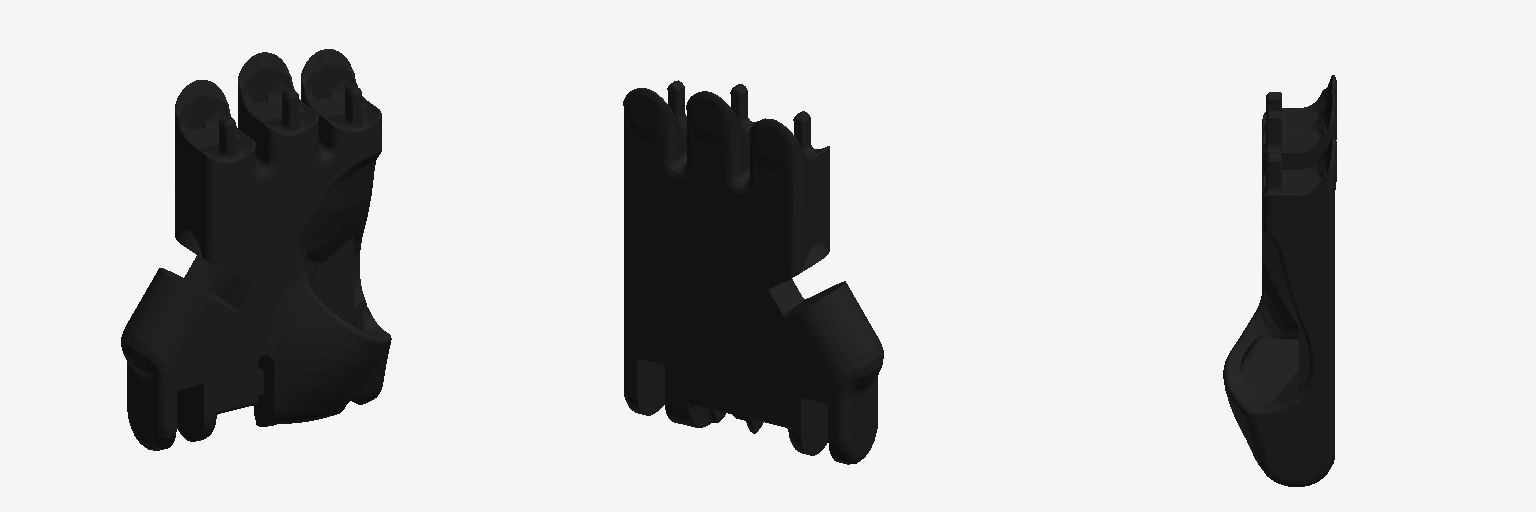
File: palm.obj
The picture shows the model from 3 angles: view 1: azimuth 30°, elevation 25°; view 2: azimuth 150°, elevation 25°; view 3: azimuth 270°, elevation 25°; orthographic projection.
Visible parts, largest first — view 1: palm_palm_001; view 2: palm_palm_001; view 3: palm_palm_001.
Boxes of the visible parts, <box> form: palm_palm_001: <box>121,49,391,450</box>; palm_palm_001: <box>623,80,883,464</box>; palm_palm_001: <box>1223,75,1336,486</box>.
Size of the model in its own units: 0.8421 by 1.17 by 0.3435.